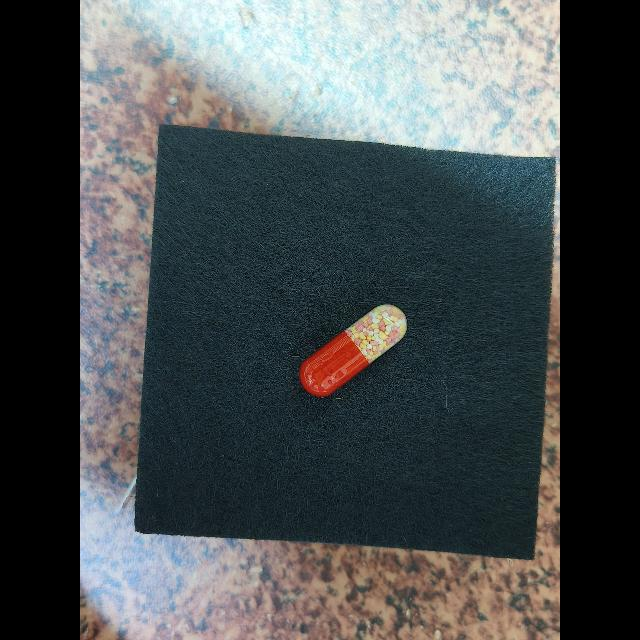Intact Capsule: (299, 304, 407, 397)
